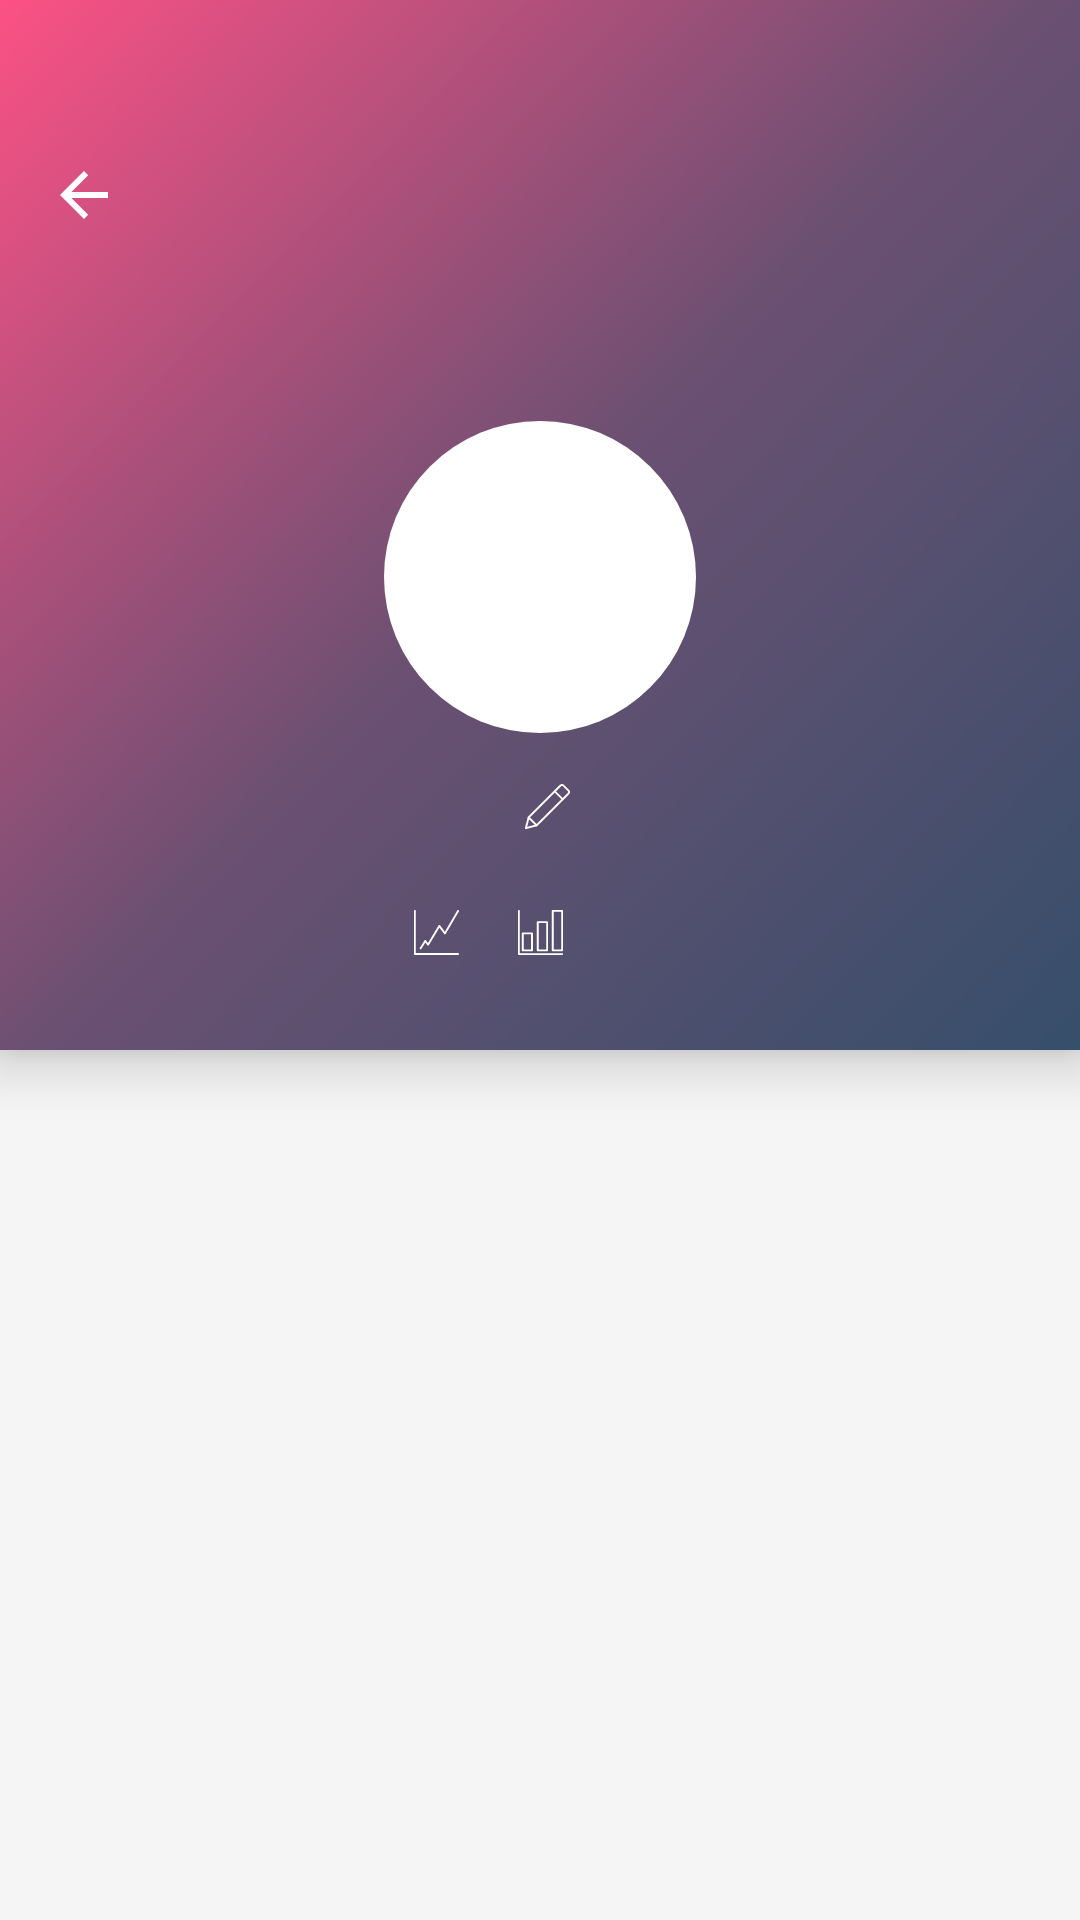

Screen size 1080w x 1920h. Icon name, then its box in pixels as (x1, y1, x2, y2):
bar chart: (518, 910, 563, 955)
edit: (525, 784, 570, 829)
profits: (414, 910, 459, 955)
